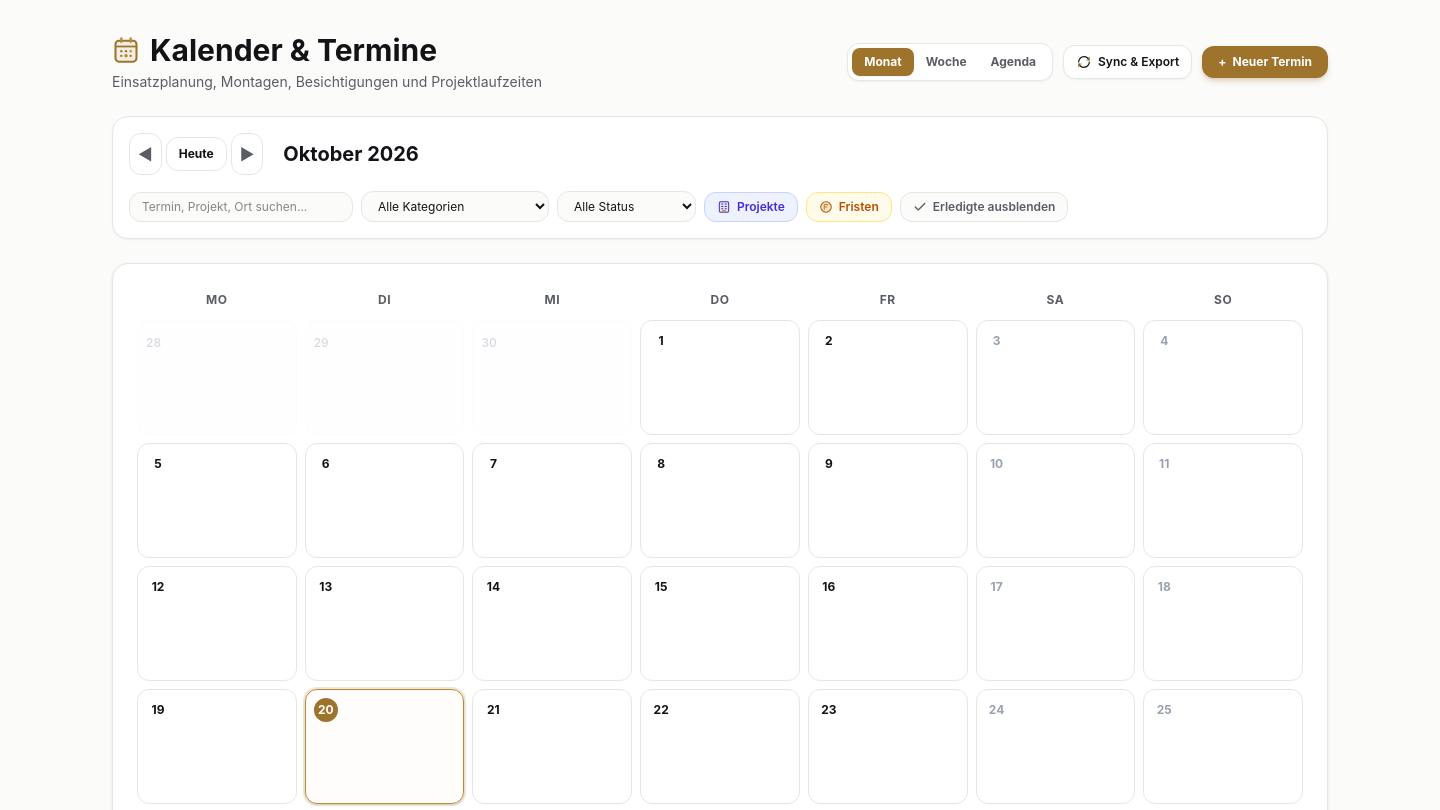
Scenario: KalenderView › displays invoice due date in agenda and opens preview card with quick action
Expected: the text "Kalender & Termine" is shown, [150,32,437,68]
Click the button "Agenda": (1013, 62) [979,48,1048,76]
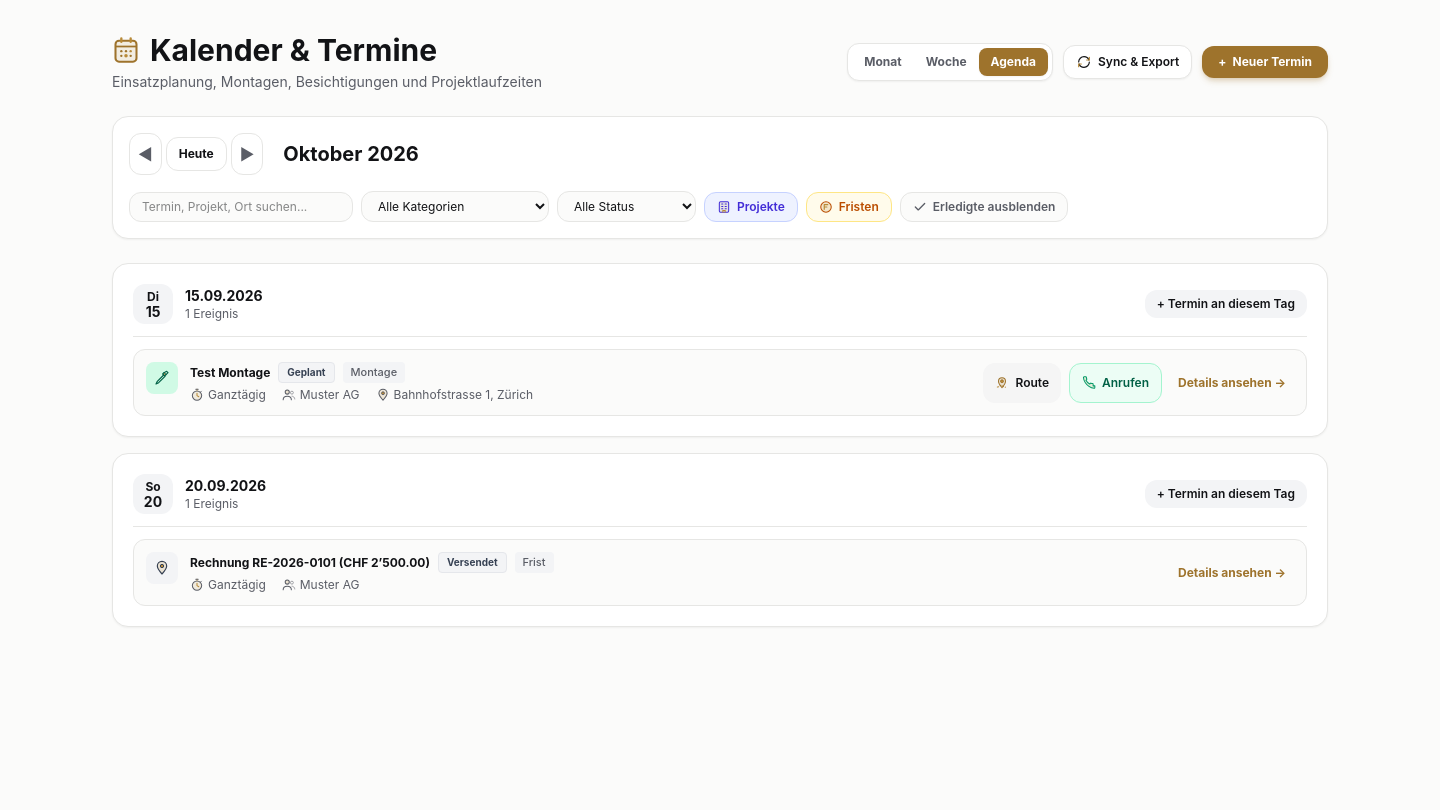
Now the text "Rechnung RE-2026-0101 (CHF 2’500.00)" is shown
Click the text "Rechnung RE-2026-0101 (CHF 2’500.00)": (310, 562) [190,554,430,570]
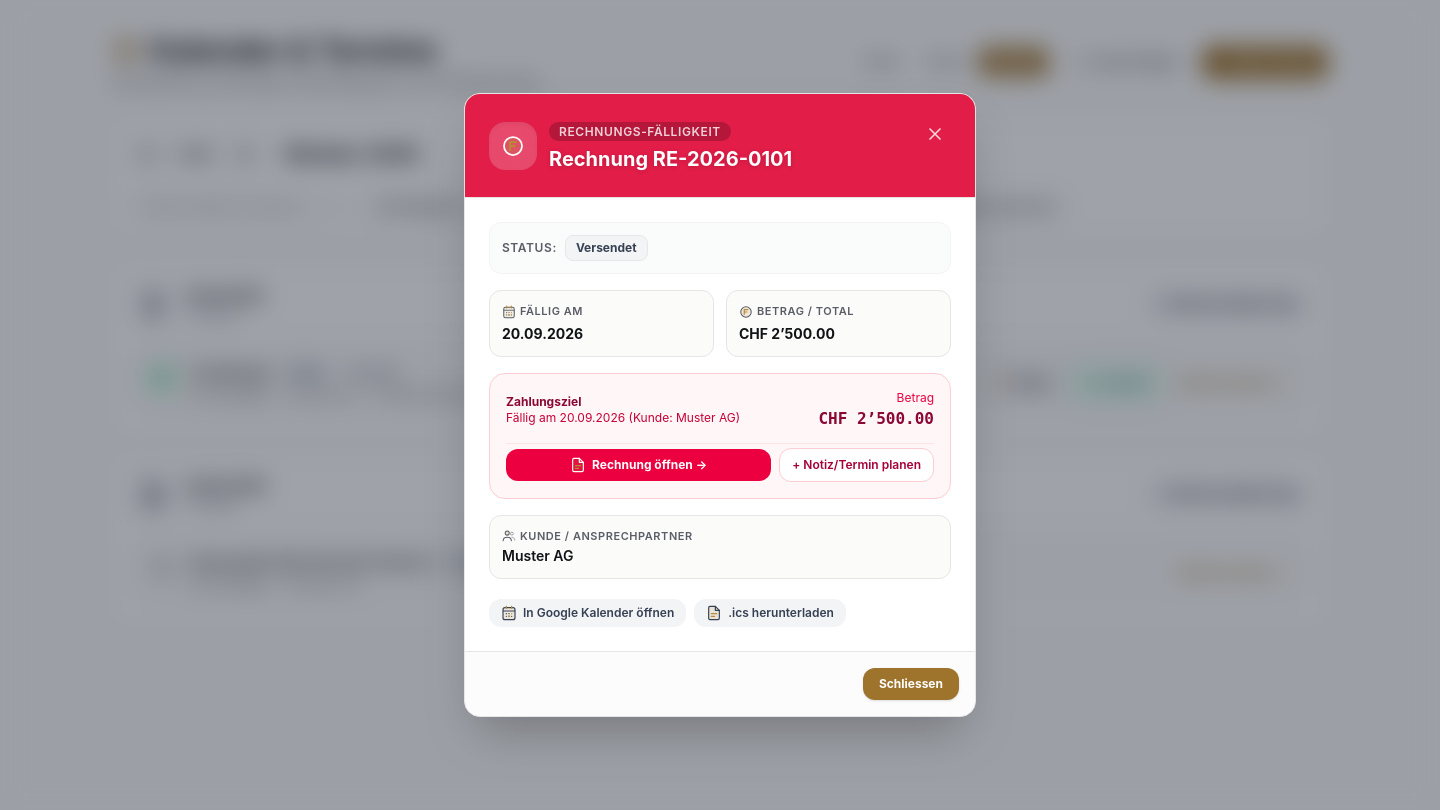
Now the text "Rechnung öffnen →" is shown, box [592,457,707,473]
